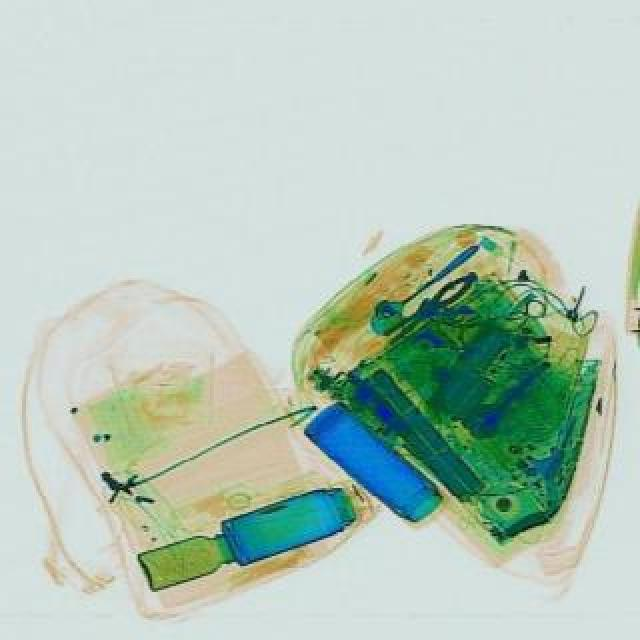wrench: (376, 266, 478, 346)
